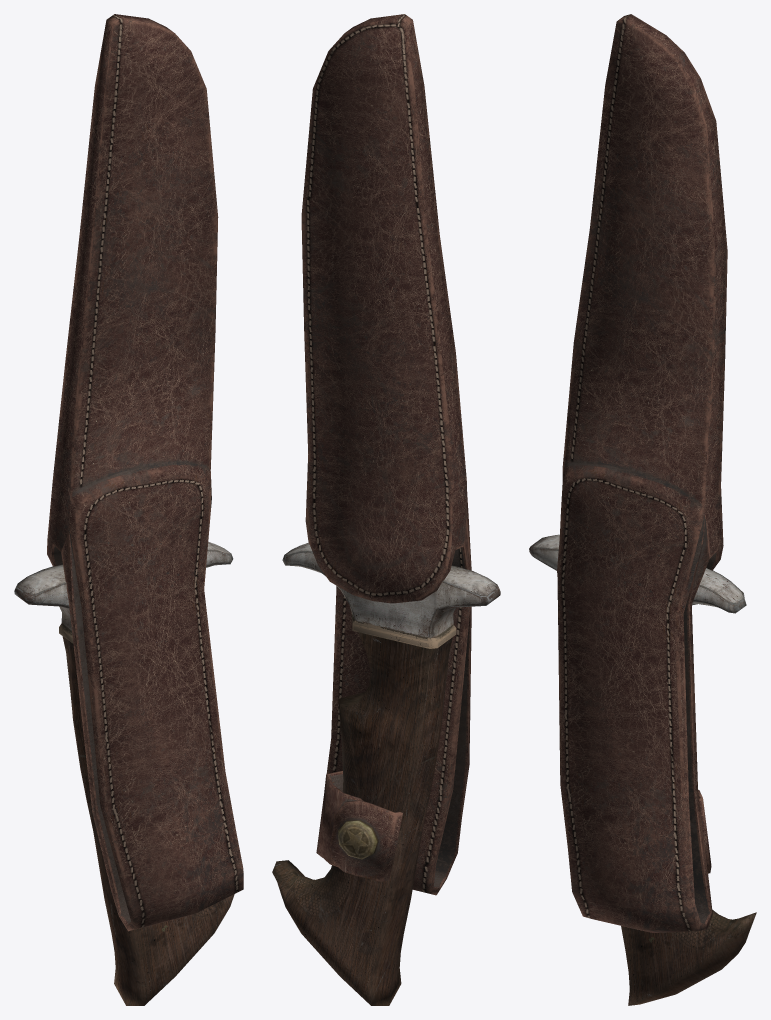
File: HuntingKnife.fbx
3 renders of one model, left to right at view 1: azimuth 30°, elevation 25°; view 2: azimuth 150°, elevation 25°; view 3: azimuth 330°, elevation 25°, orthographic.
Visible parts, largest first — view 1: HuntingKnife_Holster_LOD0, HuntingKnife_LOD0; view 2: HuntingKnife_Holster_LOD0, HuntingKnife_LOD0; view 3: HuntingKnife_Holster_LOD0, HuntingKnife_LOD0.
Boxes of the visible parts, left/top/right/bottom form: HuntingKnife_Holster_LOD0: left=47, top=14, right=243, bottom=931; HuntingKnife_LOD0: left=14, top=542, right=243, bottom=1005; HuntingKnife_Holster_LOD0: left=301, top=14, right=471, bottom=895; HuntingKnife_LOD0: left=272, top=542, right=500, bottom=1005; HuntingKnife_Holster_LOD0: left=557, top=14, right=727, bottom=932; HuntingKnife_LOD0: left=529, top=534, right=756, bottom=1005.
Size of what is drawn, in the model's own units: 7.65 by 33.03 by 3.52.
